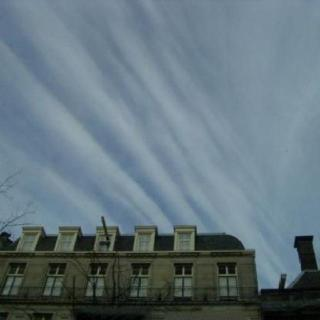Cirrus: (0, 0, 320, 226)
